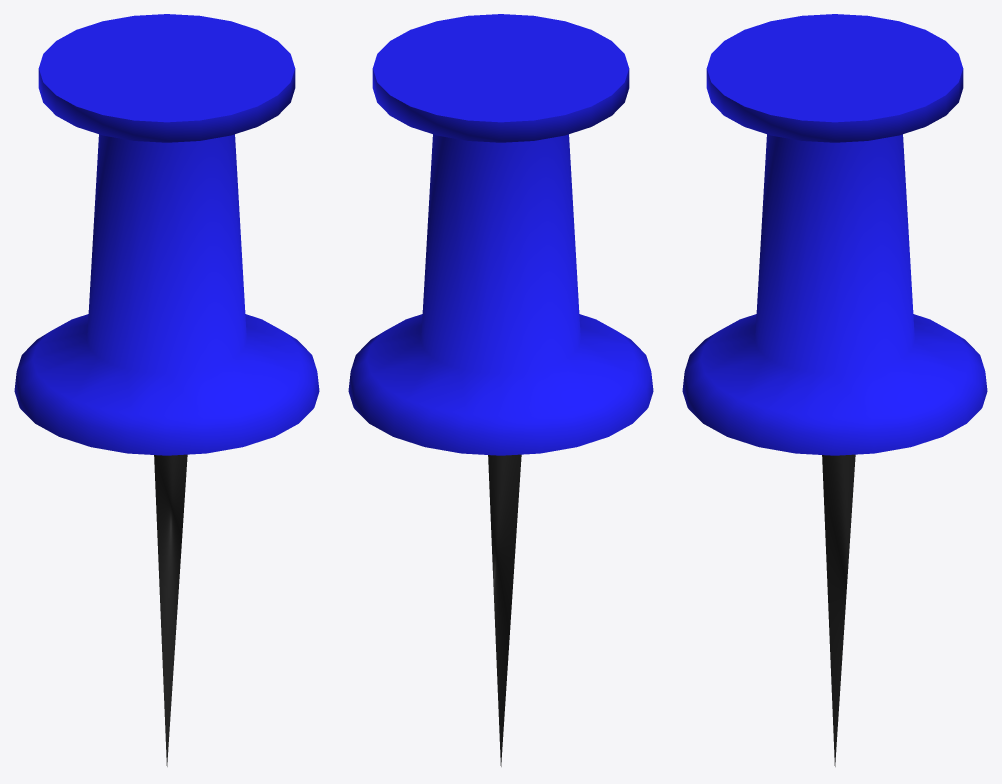
The model's file is pin3.obj.
3 views of the same model, side by side, from view 1: azimuth 30°, elevation 25°; view 2: azimuth 150°, elevation 25°; view 3: azimuth 270°, elevation 25° (orthographic).
Parts seen in each view (by area): view 1: Circle_Circle.001; view 2: Circle_Circle.001; view 3: Circle_Circle.001.
Boxes of the visible parts, x1,y1,x2,y2 form: Circle_Circle.001: (14,14,319,766); Circle_Circle.001: (348,14,653,766); Circle_Circle.001: (682,14,987,766).
Size of the model in its own units: 0.2877 by 0.7304 by 0.2877.
